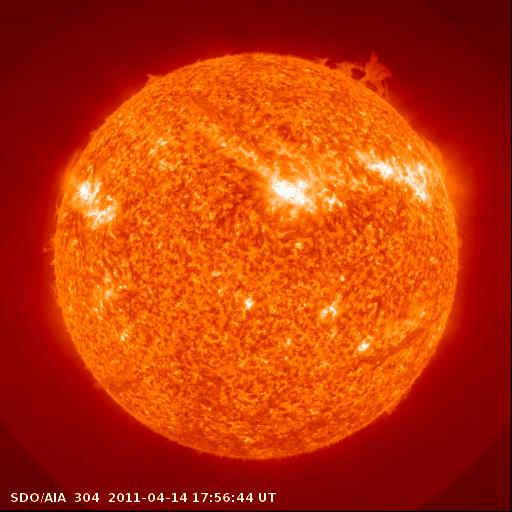prominence: (316, 43, 401, 108), (50, 129, 96, 213), (411, 125, 458, 184), (35, 229, 66, 311), (382, 382, 419, 423), (134, 62, 173, 97)
